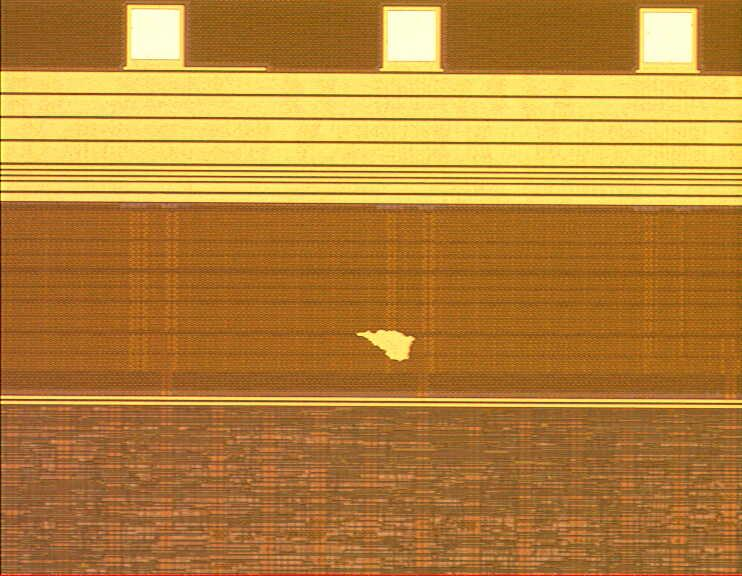BLOCK ETCH: (354, 328, 418, 364)
